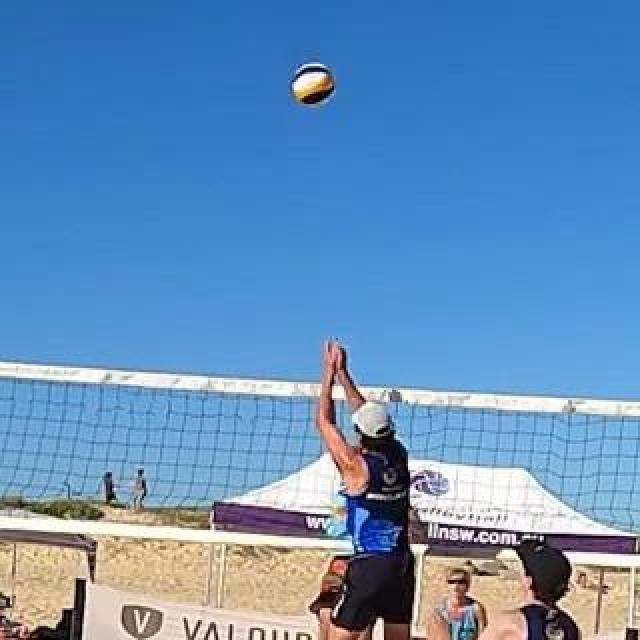volleyball: (294, 64, 336, 106)
